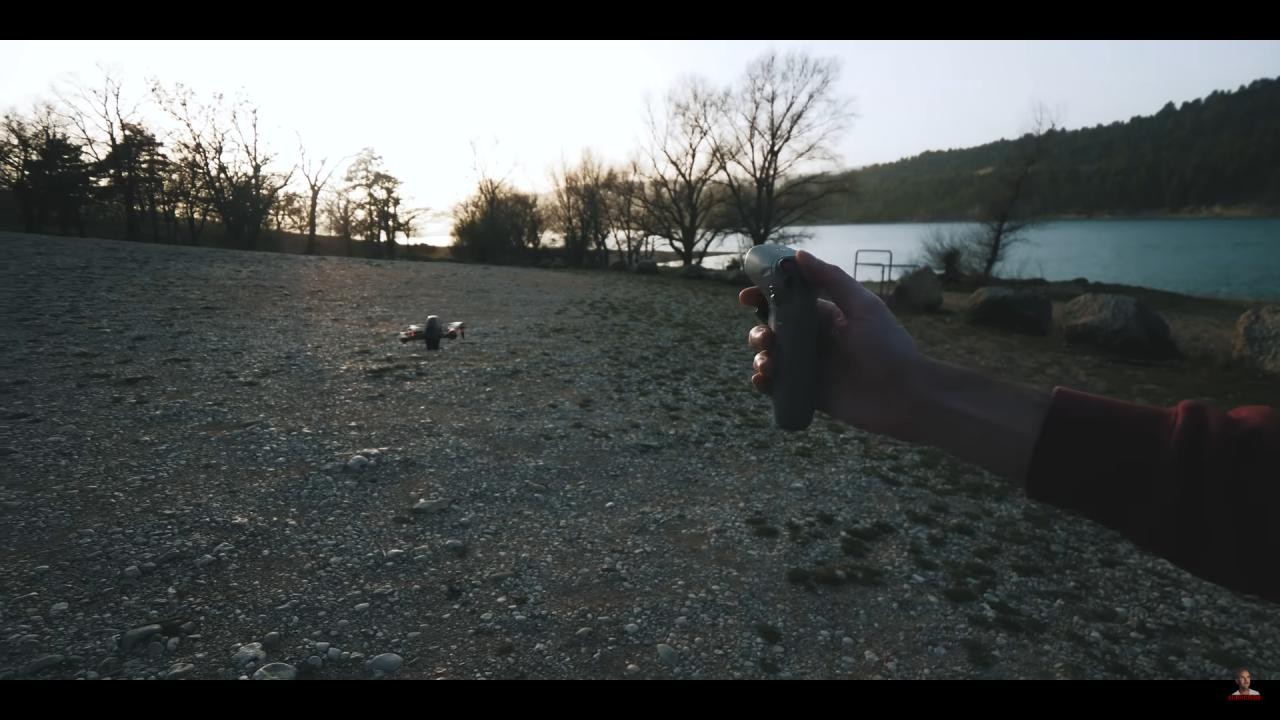Drone: (390, 311, 476, 358)
